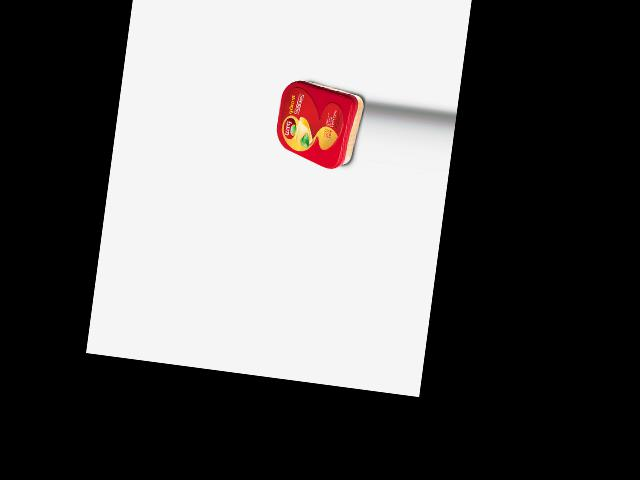cheese: (272, 78, 366, 172)
